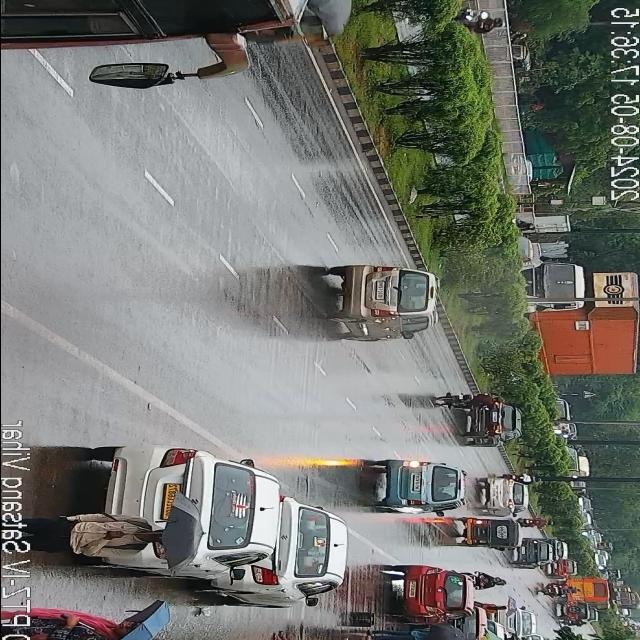2-wheelers: (459, 4, 508, 36), (434, 394, 520, 409), (534, 578, 568, 602), (476, 573, 506, 587)
auto: (456, 516, 516, 548)
bus: (0, 0, 348, 96), (572, 578, 612, 610)
car: (86, 446, 276, 584), (232, 504, 348, 606), (328, 260, 442, 344), (372, 452, 470, 512), (392, 569, 476, 622), (464, 398, 518, 448), (481, 472, 527, 514), (511, 536, 550, 568), (557, 601, 587, 622), (549, 557, 575, 576), (521, 518, 559, 528)
pedestrian: (25, 502, 196, 554), (34, 614, 130, 640), (371, 623, 482, 640), (274, 626, 368, 640), (480, 603, 507, 614)
truck: (517, 255, 640, 382)
